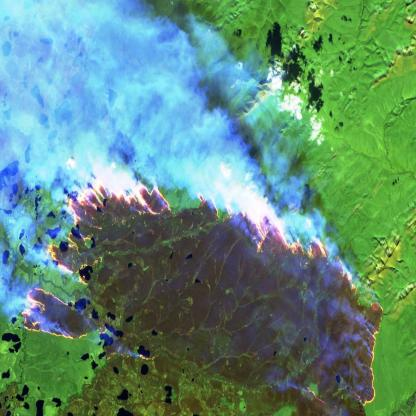fire: (20, 172, 385, 407)
